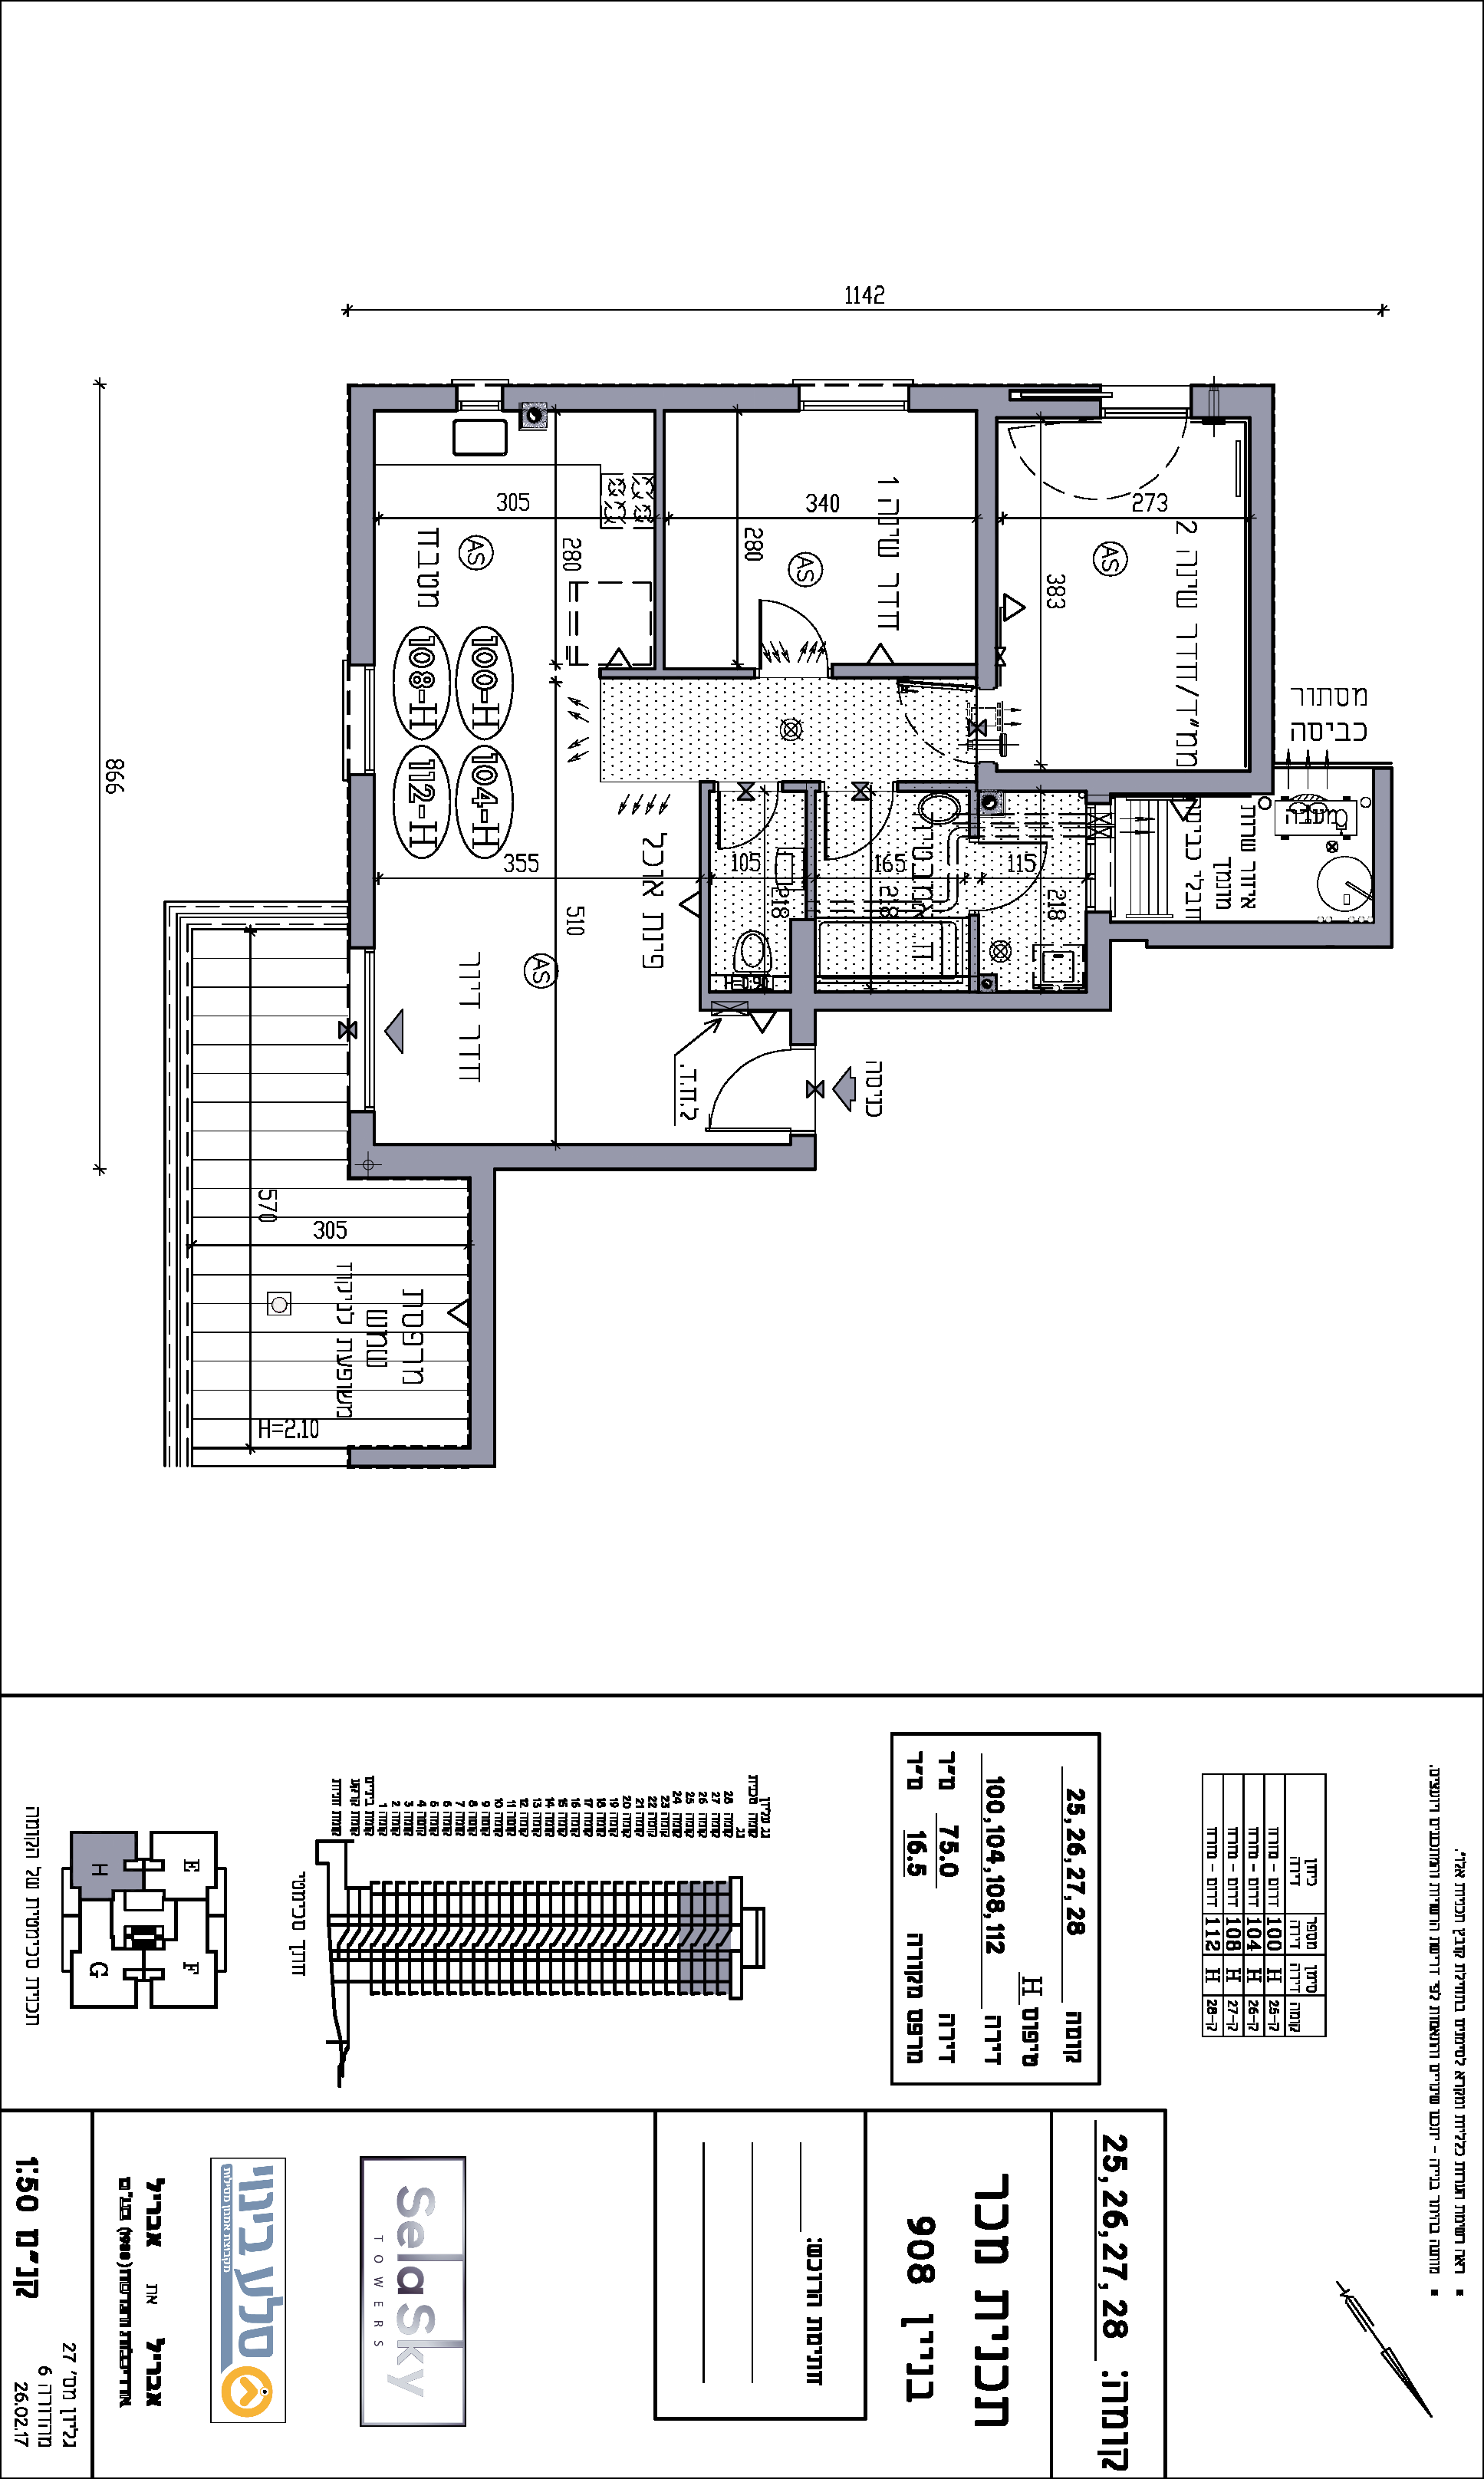door: (705, 1060, 783, 1138), (753, 594, 823, 645)
wall: (1251, 390, 1272, 781), (376, 1150, 806, 1164), (352, 390, 373, 643), (1154, 924, 1382, 944), (475, 1150, 489, 1459), (781, 995, 1104, 1007), (980, 387, 993, 677), (1376, 774, 1392, 938), (1049, 776, 1258, 788), (793, 926, 811, 1039)
window: (343, 947, 383, 1113), (336, 663, 383, 776), (797, 375, 912, 421), (454, 375, 505, 413)
